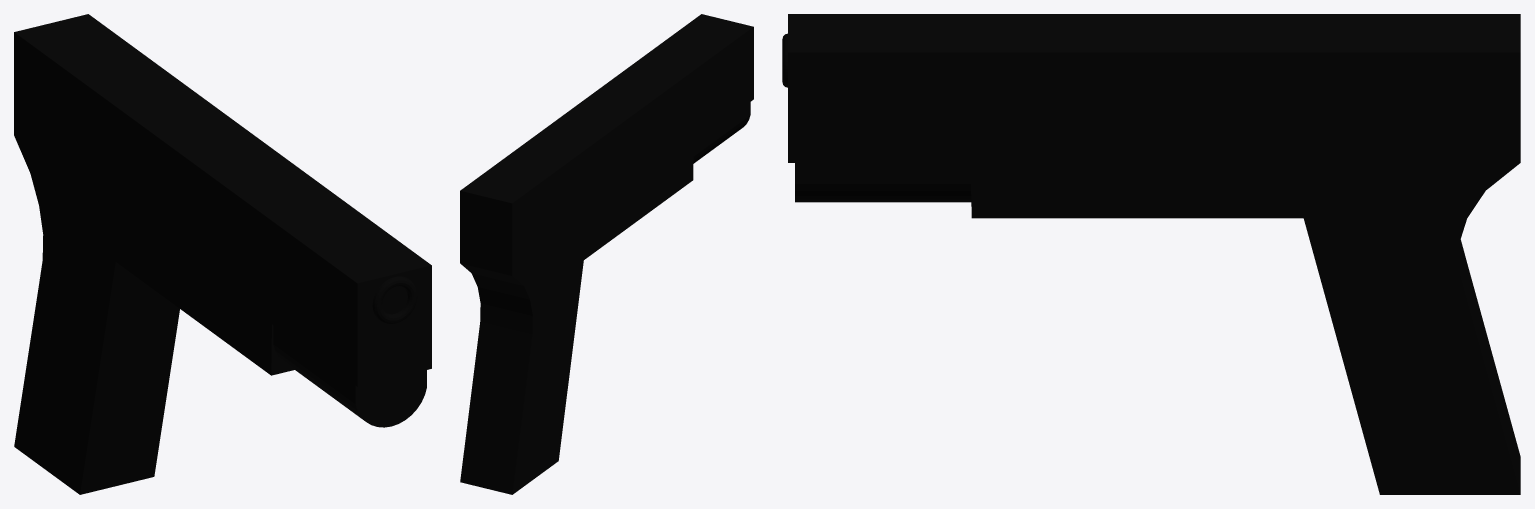
Rendered from weapon.gltf.
3 renders of one model, left to right at view 1: azimuth 30°, elevation 25°; view 2: azimuth 150°, elevation 25°; view 3: azimuth 270°, elevation 25°, orthographic. The views are drawn at different scales.
Parts seen in each view (by area): view 1: トーラス; view 2: トーラス; view 3: トーラス.
Part boxes in pixels (bbox=[...]): トーラス: bbox=[14, 14, 431, 494]; トーラス: bbox=[460, 14, 753, 494]; トーラス: bbox=[782, 14, 1520, 494].
Bounding box in the file's own units: 1 × 5.33 × 8.06.
1 material, 1 textured.
